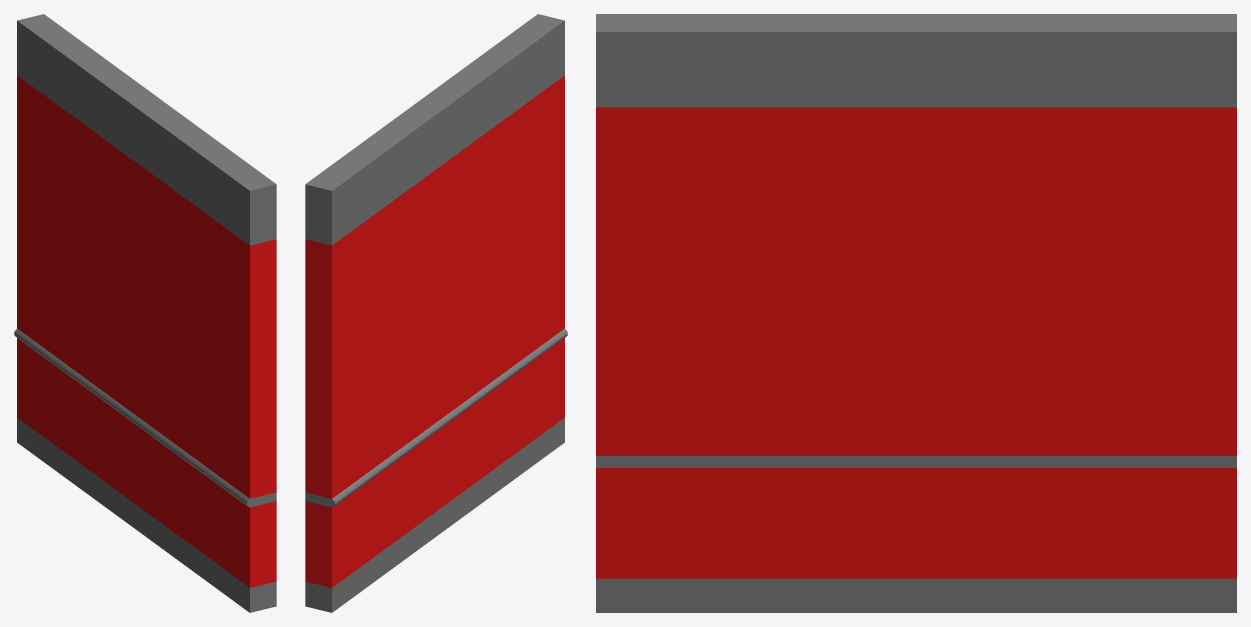
File: Wall2_Middel.fbx
3 renders of one model, left to right at view 1: azimuth 30°, elevation 25°; view 2: azimuth 150°, elevation 25°; view 3: azimuth 270°, elevation 25°, orthographic. The views are drawn at different scales.
Parts seen in each view (by area): view 1: Wall003_Mid; view 2: Wall003_Mid; view 3: Wall003_Mid.
Boxes of the visible parts, x1,y1,x2,y2 form: Wall003_Mid: (14, 14, 276, 612); Wall003_Mid: (305, 14, 567, 612); Wall003_Mid: (596, 14, 1236, 612).
Bounding box in the file's own units: 8.74 × 118 × 118.
